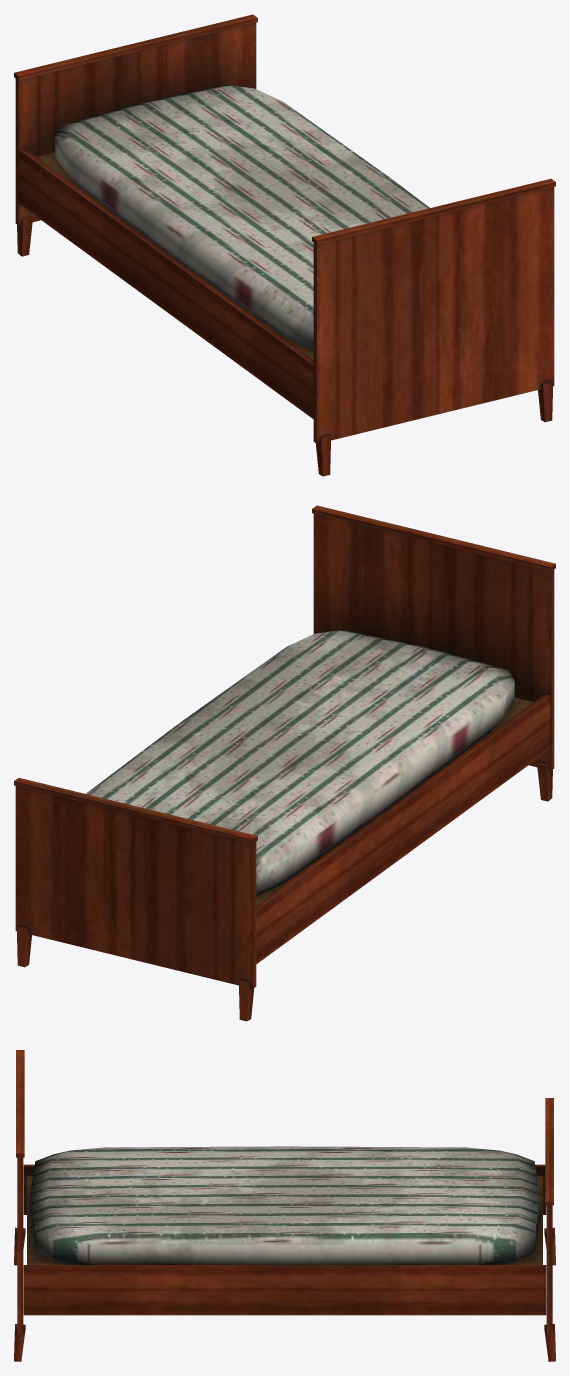
Rendered from bed_polished_lod1_web.glb.
3 views of the same model, one above another, from view 1: azimuth 30°, elevation 25°; view 2: azimuth 150°, elevation 25°; view 3: azimuth 270°, elevation 25° (orthographic). The views are drawn at different scales.
Parts seen in each view (by area): view 1: BedPolished_Mesh; view 2: BedPolished_Mesh; view 3: BedPolished_Mesh.
Boxes of the visible parts, x1,y1,x2,y2 form: BedPolished_Mesh: [14, 14, 555, 476]; BedPolished_Mesh: [14, 505, 555, 1021]; BedPolished_Mesh: [14, 1050, 555, 1361].
Size of the model in its own units: 0.926 by 0.877 by 2.05.
1 material, 1 textured.
